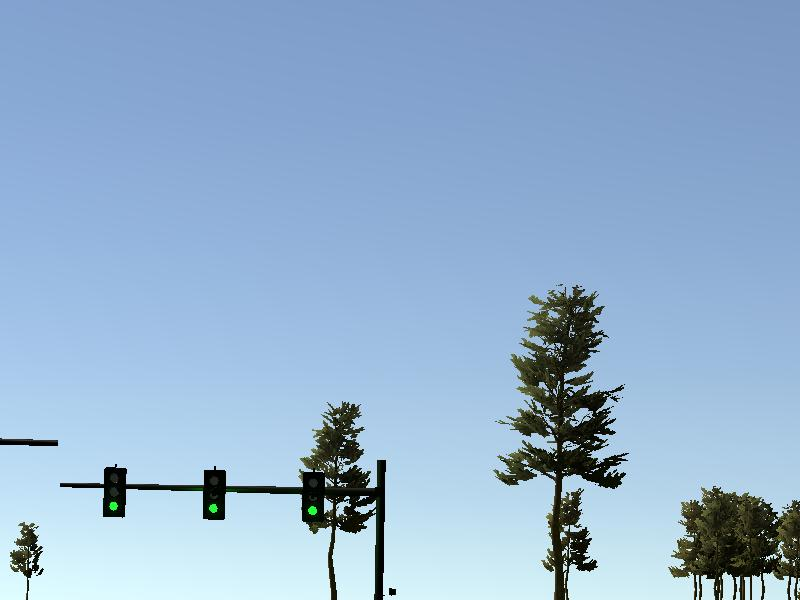green: (103, 466, 124, 516), (203, 469, 224, 519), (303, 473, 324, 523)
